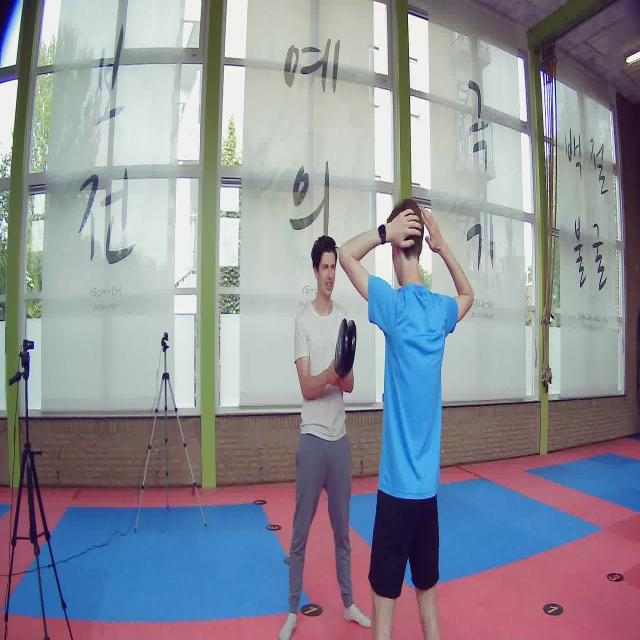paddle: (334, 317, 357, 380)
